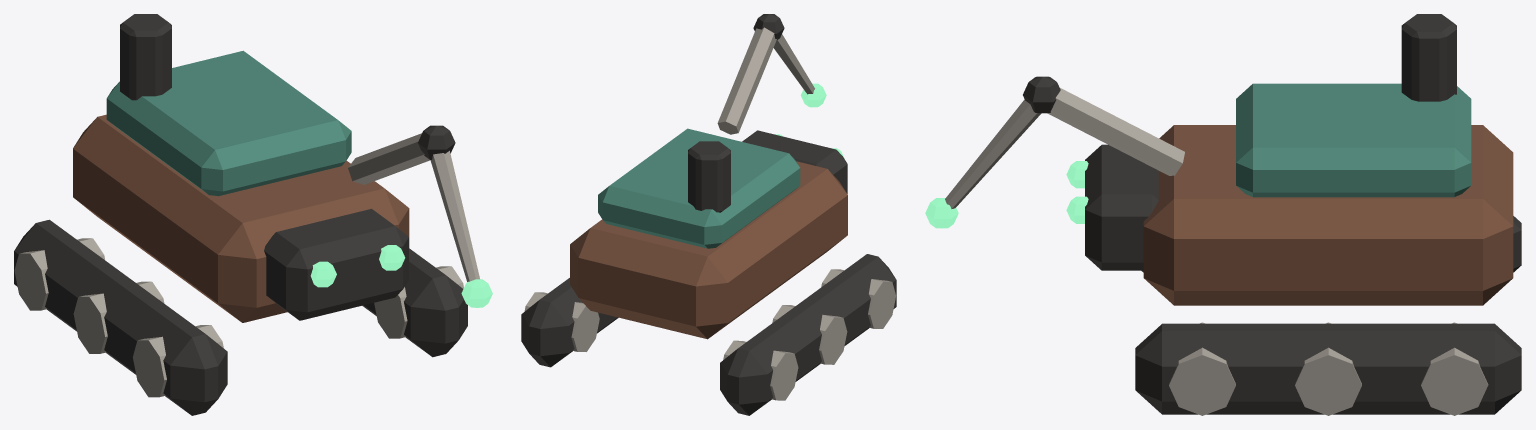
File: exo-tender.glb
The picture shows the model from 3 angles, left to right: view 1: azimuth 30°, elevation 25°; view 2: azimuth 150°, elevation 25°; view 3: azimuth 270°, elevation 25°; orthographic projection. The views are drawn at different scales.
Visible parts, largest first — view 1: body; view 2: body; view 3: body.
Boxes of the visible parts, box(x1,y1,x2,y2) form: body: box(14, 14, 492, 415); body: box(521, 14, 896, 415); body: box(925, 14, 1521, 415).
Size of the model in its own units: 2.22 by 2 by 3.55.
